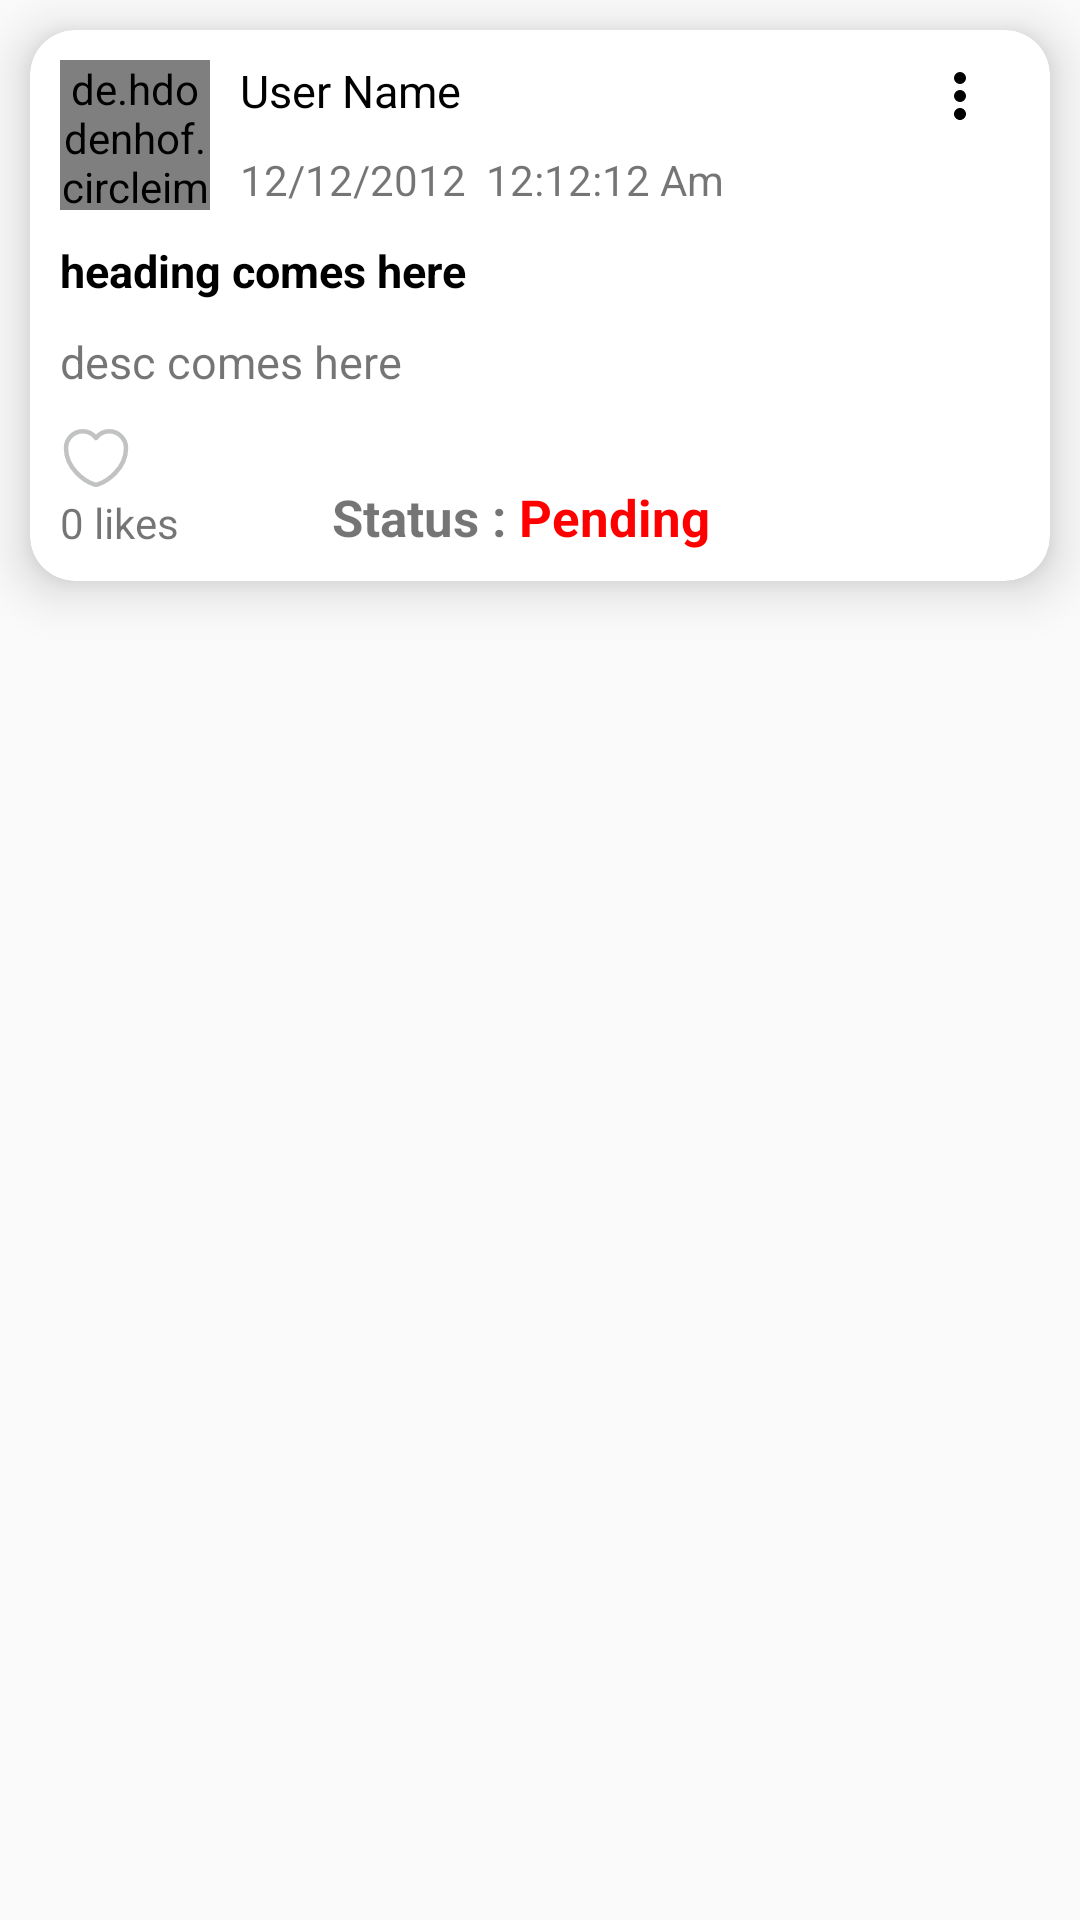

Screen size 1080x1920. Icon name, then its center in pixels as (x,y):
heart nofill: (96,458)
kebab menu: (960,96)
